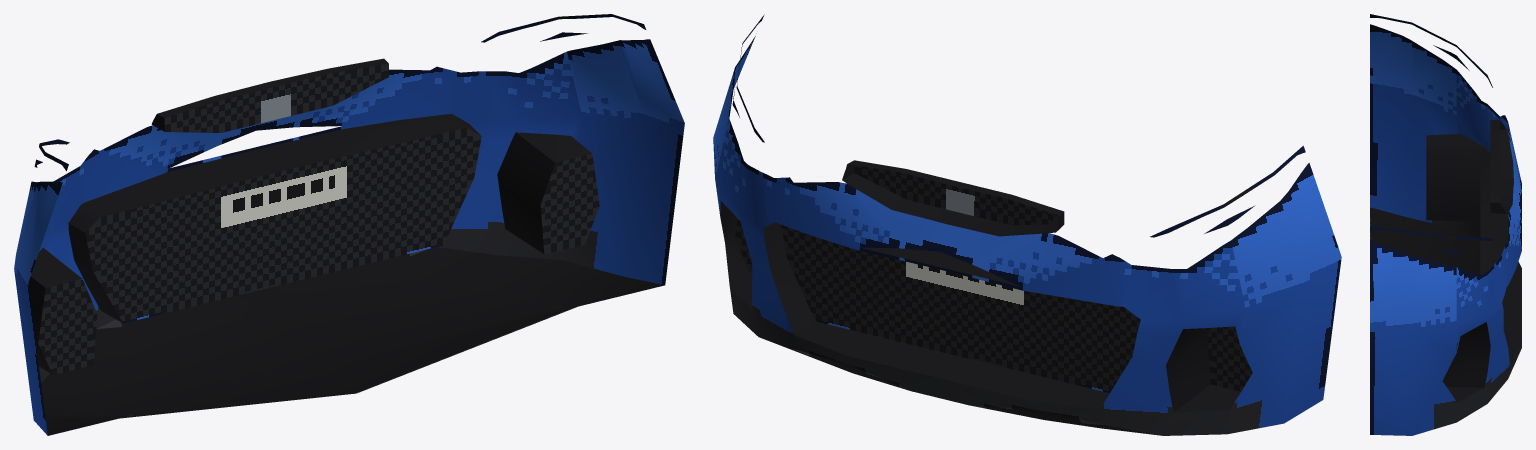
File: bumper_F_sport.glb
3 renders of one model, left to right at view 1: azimuth 30°, elevation 25°; view 2: azimuth 150°, elevation 25°; view 3: azimuth 270°, elevation 25°, orthographic. The views are drawn at different scales.
Parts seen in each view (by area): view 1: bumper_F_sport; view 2: bumper_F_sport; view 3: bumper_F_sport.
Boxes of the visible parts, x1,y1,x2,y2 form: bumper_F_sport: [14, 14, 684, 435]; bumper_F_sport: [713, 14, 1341, 435]; bumper_F_sport: [1370, 14, 1521, 435].
Bounding box in the file's own units: 1.67 × 0.7274 × 0.443.
Materials: 1 (1 with a texture image).
